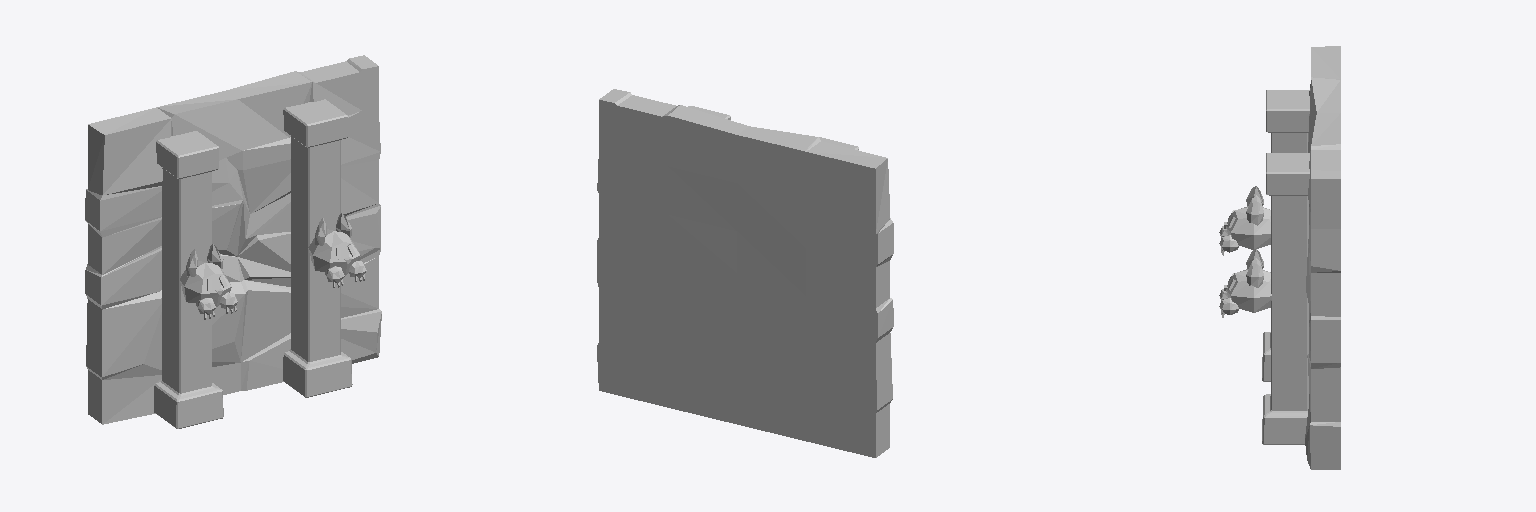
Rendered from pared3.obj.
3 views of the same model, side by side, from view 1: azimuth 30°, elevation 25°; view 2: azimuth 150°, elevation 25°; view 3: azimuth 270°, elevation 25° (orthographic).
Visible parts, largest first — view 1: pilar_2_garra_4; view 2: pilar_2_garra_4; view 3: pilar_2_garra_4.
Boxes of the visible parts, box(x1,y1,x2,y2) form: pilar_2_garra_4: box(85, 55, 381, 428); pilar_2_garra_4: box(597, 89, 893, 457); pilar_2_garra_4: box(1219, 46, 1340, 469).
Size of the model in its own units: 4.13 by 4.1 by 1.54.